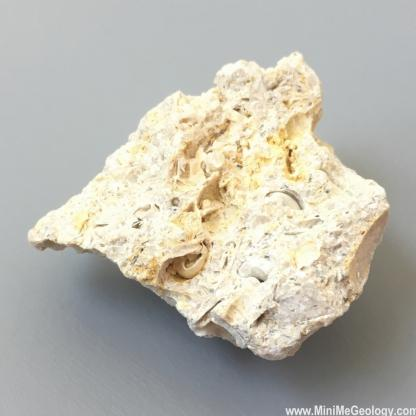Sedimentary_Limestone: (25, 56, 395, 369)
